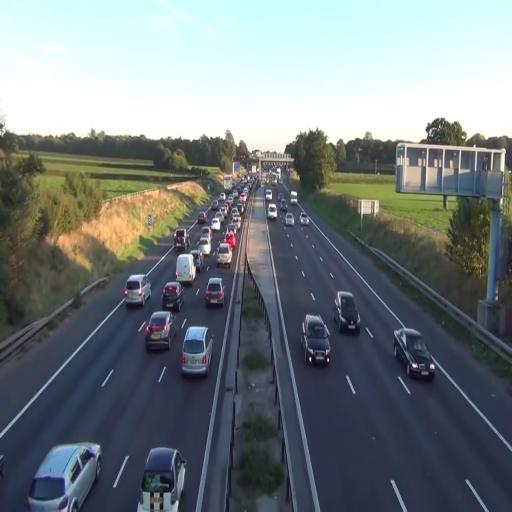vehicle: (26, 442, 102, 511), (138, 446, 187, 512), (393, 326, 435, 380), (181, 325, 213, 377), (302, 315, 332, 366), (145, 310, 172, 354), (334, 292, 360, 334), (123, 274, 151, 309), (161, 280, 184, 313), (175, 253, 196, 285), (204, 277, 225, 308), (215, 244, 232, 268), (266, 202, 278, 221), (285, 213, 295, 226), (300, 212, 308, 226)
